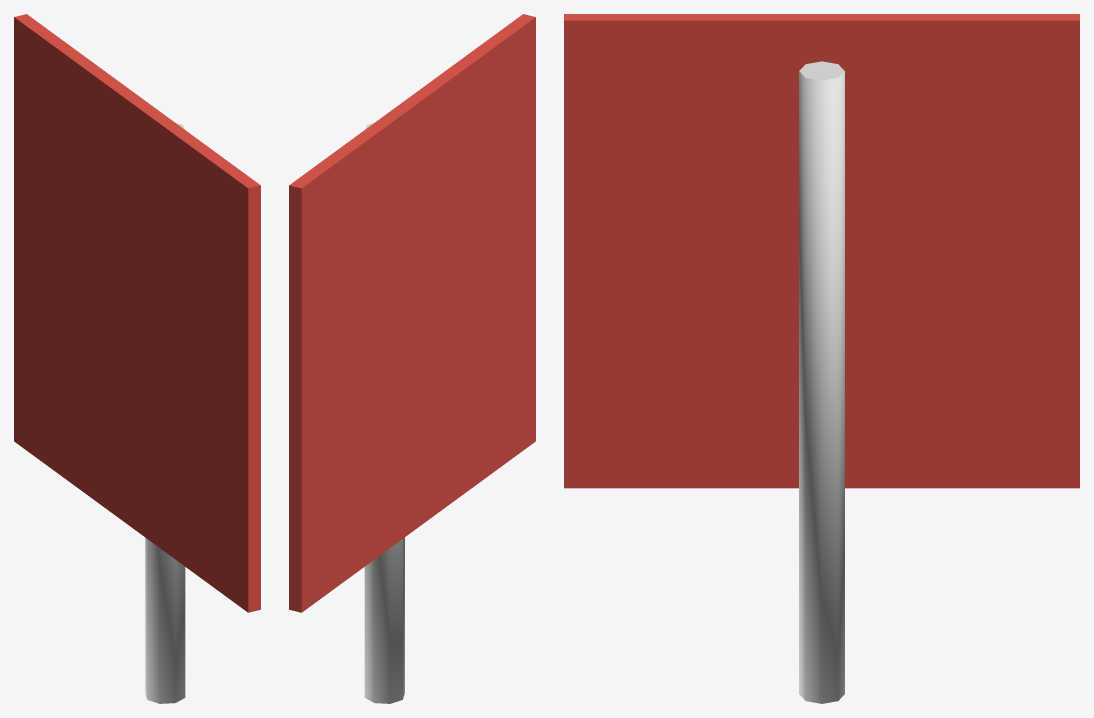
Rendered from ne3_small.glb.
3 views of the same model, side by side, from view 1: azimuth 30°, elevation 25°; view 2: azimuth 150°, elevation 25°; view 3: azimuth 270°, elevation 25° (orthographic). The views are drawn at different scales.
Visible parts, largest first — view 1: Ne3_Small; view 2: Ne3_Small; view 3: Ne3_Small.
Boxes of the visible parts, x1=… form: Ne3_Small: x1=14, y1=14, x2=260, y2=703; Ne3_Small: x1=289, y1=14, x2=535, y2=703; Ne3_Small: x1=564, y1=14, x2=1079, y2=703.
Bounding box in the file's own units: 0.1443 × 1.59 × 1.12.
